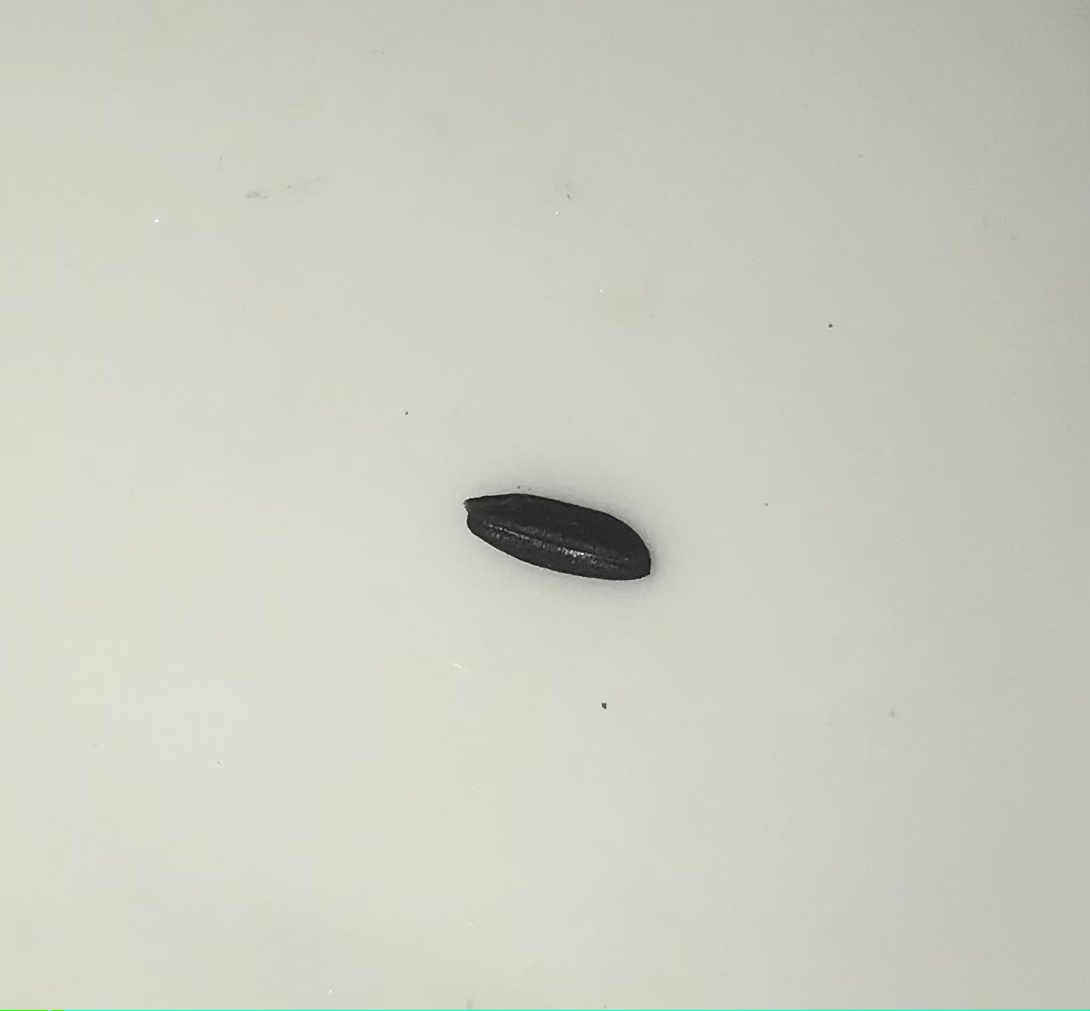Gao Nep Cam: (447, 472, 658, 609)
